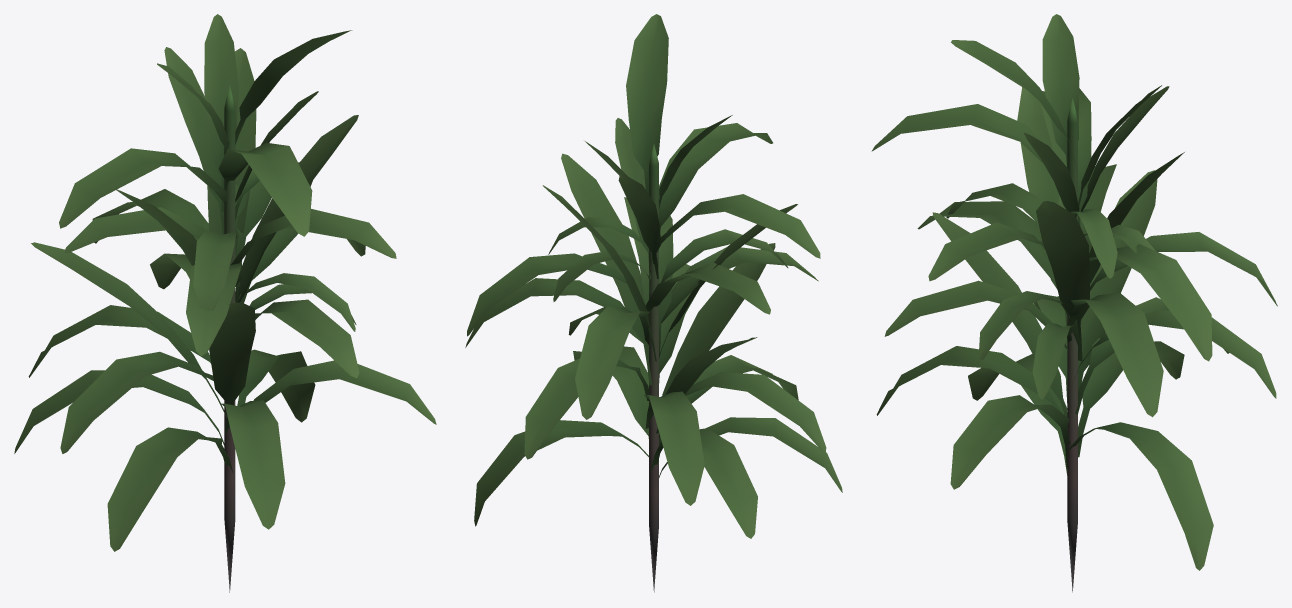
The model's file is plants-leafy-plants-dragon-plant_v1.glb.
3 views of the same model, side by side, from view 1: azimuth 30°, elevation 25°; view 2: azimuth 150°, elevation 25°; view 3: azimuth 270°, elevation 25° (orthographic). The views are drawn at different scales.
Parts seen in each view (by area): view 1: Dragon Plant_v1; view 2: Dragon Plant_v1; view 3: Dragon Plant_v1.
Part boxes in pixels (x1,y1,x2,y2): Dragon Plant_v1: (14, 14, 436, 592); Dragon Plant_v1: (465, 14, 842, 592); Dragon Plant_v1: (871, 14, 1277, 592).
Bounding box in the file's own units: 0.4982 × 0.8 × 0.5079.
